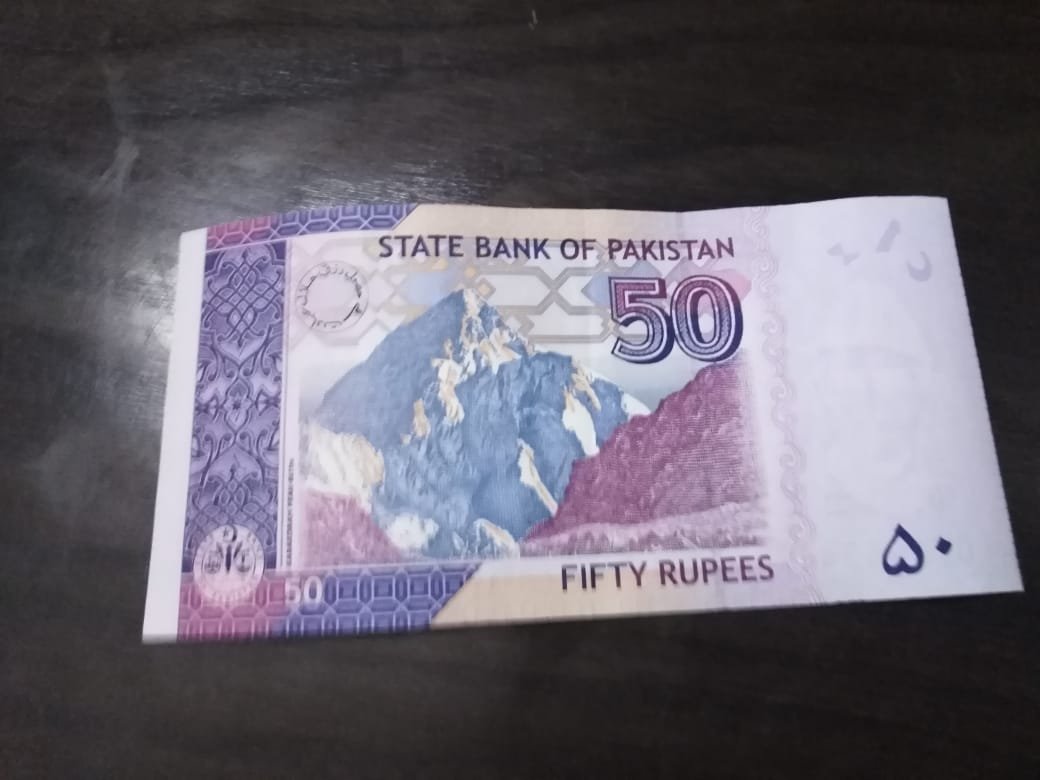50 rupee: (142, 207, 1025, 636)
